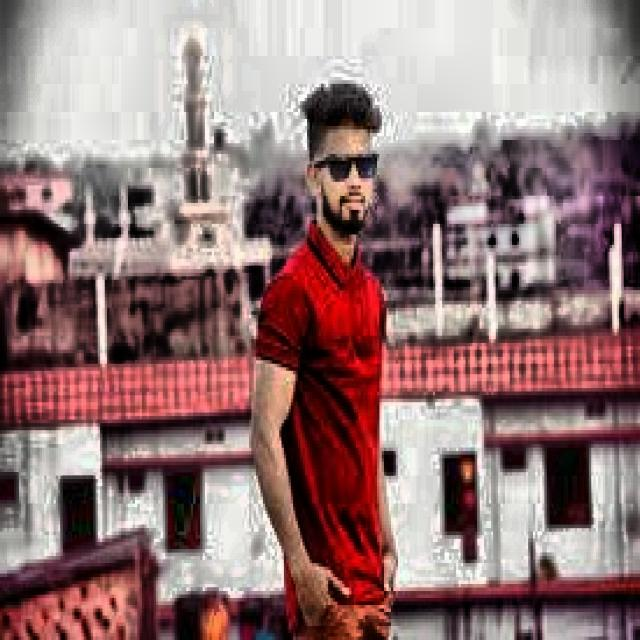Human: (241, 51, 419, 640)
